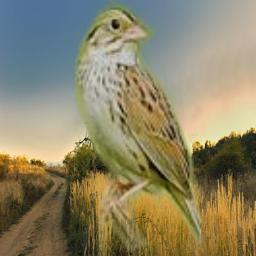Sparrow: (75, 0, 201, 256)
